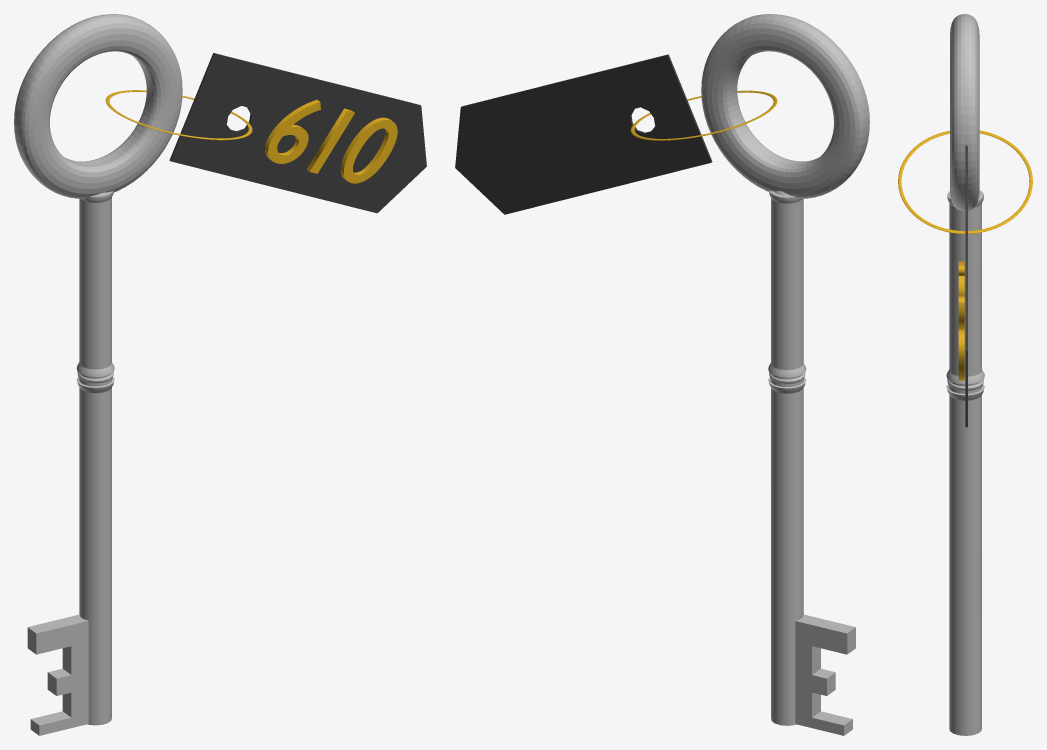
Rendered from key610.fbx.
3 renders of one model, left to right at view 1: azimuth 30°, elevation 25°; view 2: azimuth 150°, elevation 25°; view 3: azimuth 270°, elevation 25°, orthographic.
Visible parts, largest first — view 1: key610; view 2: key610; view 3: key610.
Part boxes in pixels (left/top/right/bottom): key610: left=14, top=14, right=426, bottom=735; key610: left=455, top=14, right=869, bottom=735; key610: left=898, top=14, right=1032, bottom=735.
Bounding box in the file's own units: 8.68 × 14.18 × 2.45.
